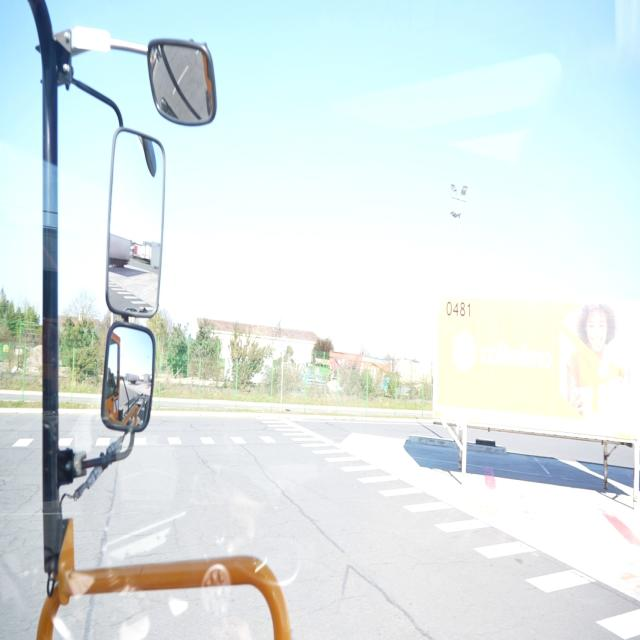Code: (444, 294, 474, 324)
